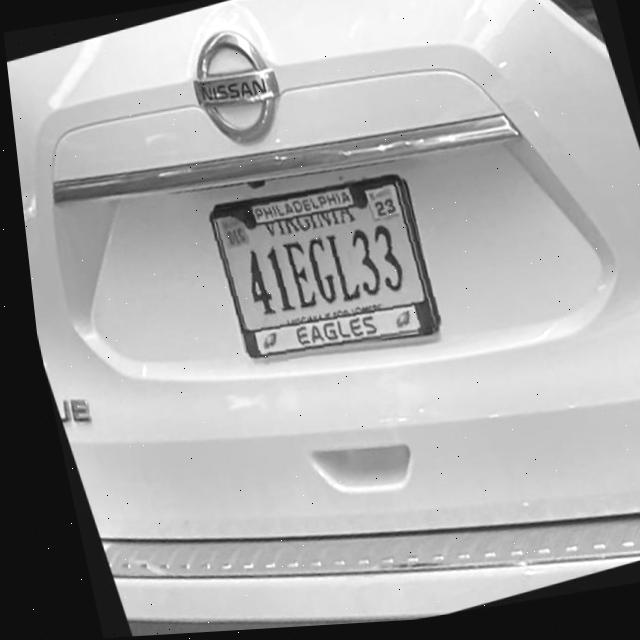LicensePlate: (201, 178, 434, 361)
